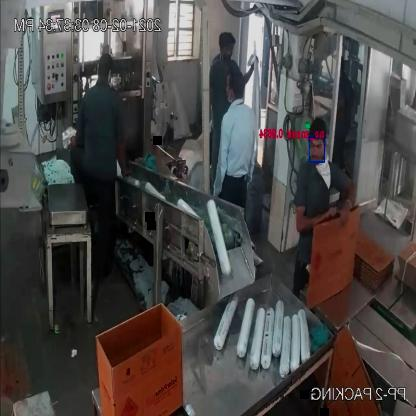no_glove: (332, 164, 364, 227), (292, 198, 336, 240)
